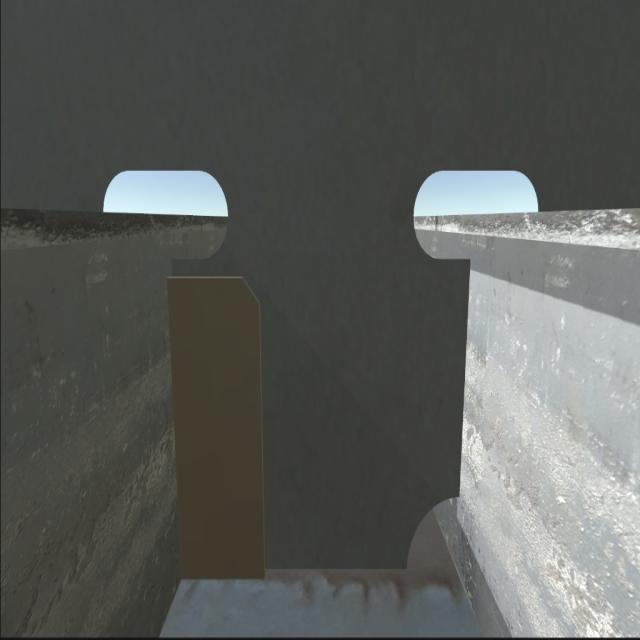fillet_hole: (410, 499, 460, 566)
fillet_yong_jeop_jang: (174, 564, 412, 588)
longi_yong_jeop_jang: (161, 250, 183, 584), (456, 249, 470, 502)
plate_CP03: (167, 275, 269, 581)
